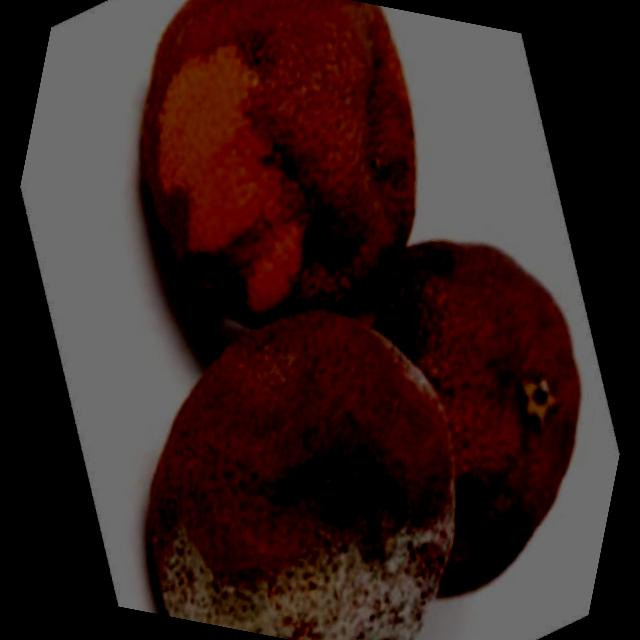Orange: (126, 280, 495, 640), (296, 218, 610, 616), (107, 0, 453, 352)
